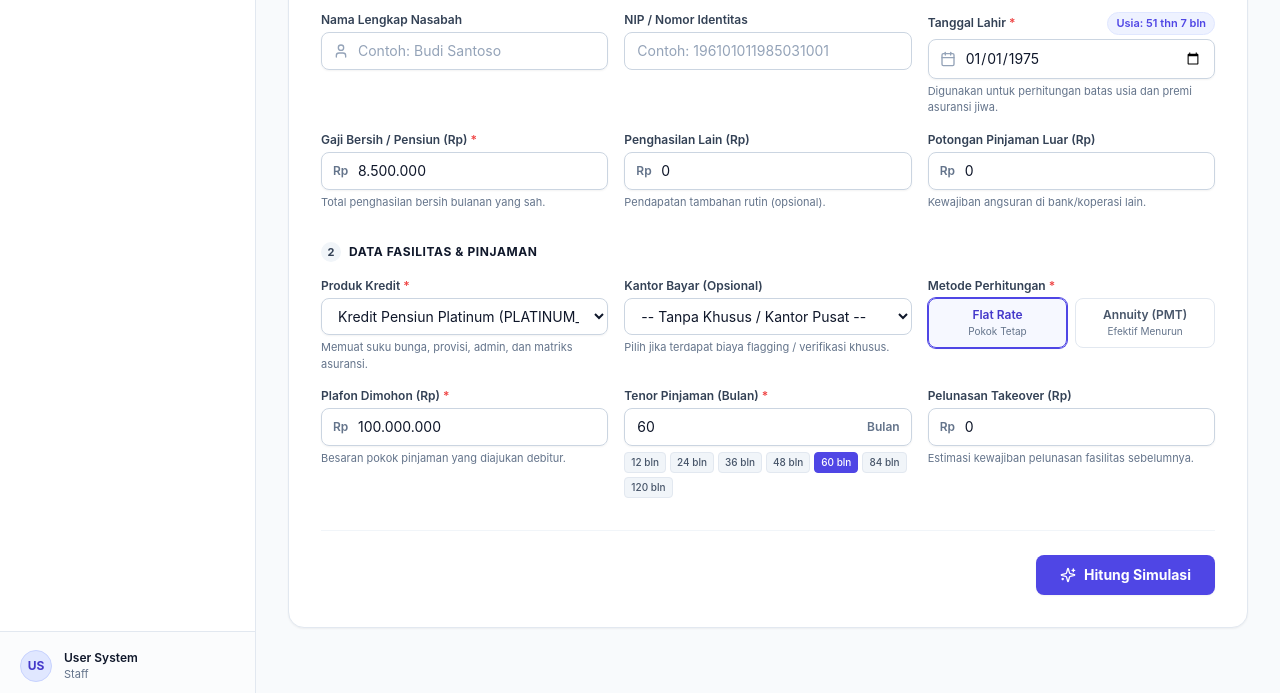
TASK-047: Calculate Action End-to-End Flow Tests › should complete flow: validate -> POST /calculations -> loading -> display result
(page scrolled)
Step 1. Click the button with test id "calculate-submit-btn" → (1126, 575), box [1036, 555, 1215, 595]
(page scrolled)
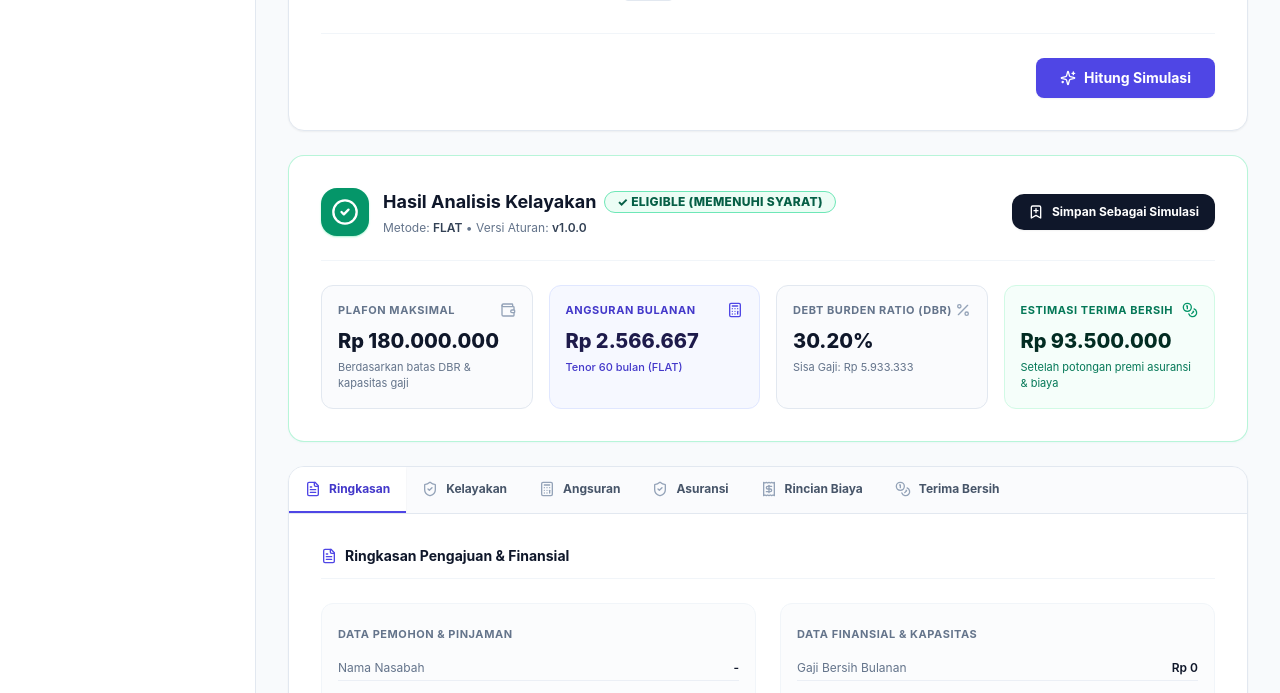
Expected: the element with test id "calculation-summary-result" is shown, [288, 155, 1248, 442]
Expected: the heading "Hasil Analisis Kelayakan" is shown, [383, 188, 596, 216]
Expected: the text "✓ ELIGIBLE (MEMENUHI SYARAT)" is shown, [604, 191, 836, 213]
